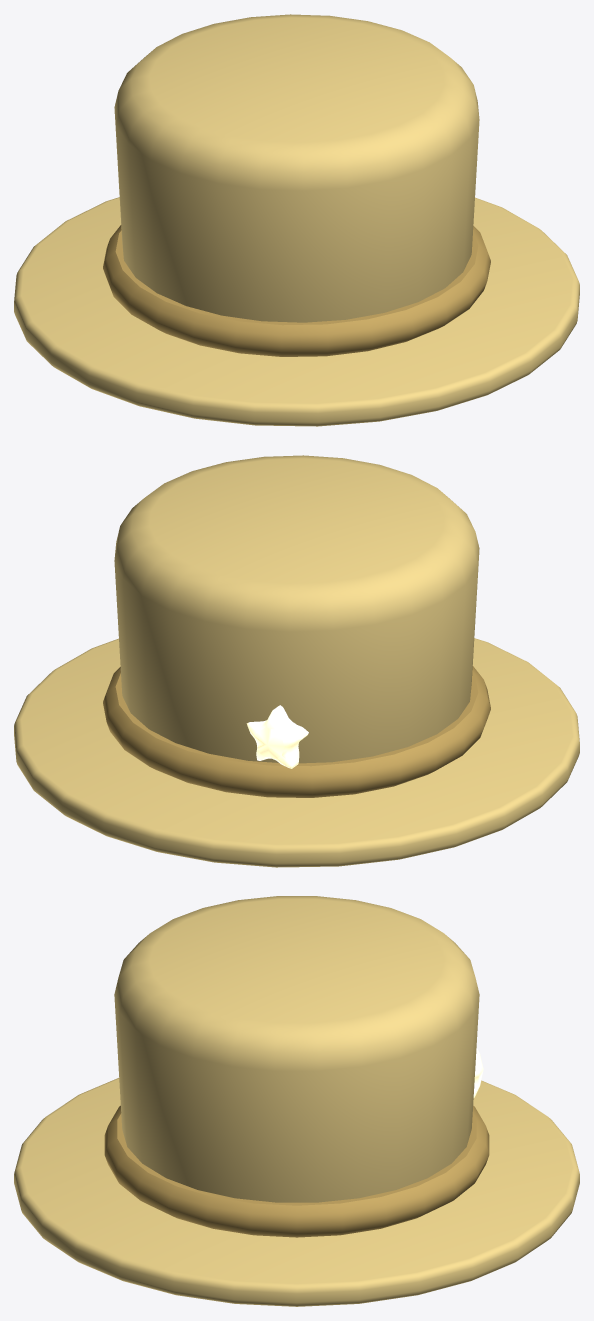
File: Acc_Tophat.fbx
The picture shows the model from 3 angles, top to bottom: view 1: azimuth 30°, elevation 25°; view 2: azimuth 150°, elevation 25°; view 3: azimuth 270°, elevation 25°; orthographic projection.
Parts seen in each view (by area): view 1: Top_Hat, Top_Hat_Brim, Top_Hat_Band; view 2: Top_Hat, Top_Hat_Brim, Top_Hat_Band, Top_Hat_Star; view 3: Top_Hat, Top_Hat_Brim, Top_Hat_Band.
Boxes of the visible parts, left/top/right/bottom form: Top_Hat: left=114, top=14, right=479, bottom=322; Top_Hat_Brim: left=14, top=197, right=579, bottom=426; Top_Hat_Band: left=103, top=225, right=490, bottom=356; Top_Hat: left=114, top=455, right=479, bottom=763; Top_Hat_Brim: left=14, top=638, right=579, bottom=867; Top_Hat_Band: left=103, top=666, right=490, bottom=797; Top_Hat_Star: left=246, top=705, right=308, bottom=768; Top_Hat: left=114, top=896, right=479, bottom=1202; Top_Hat_Brim: left=14, top=1078, right=579, bottom=1306; Top_Hat_Band: left=104, top=1105, right=489, bottom=1237.
Size of the model in its own units: 92 by 41 by 92.
